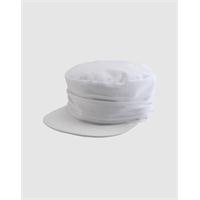hat: (43, 60, 154, 138)
